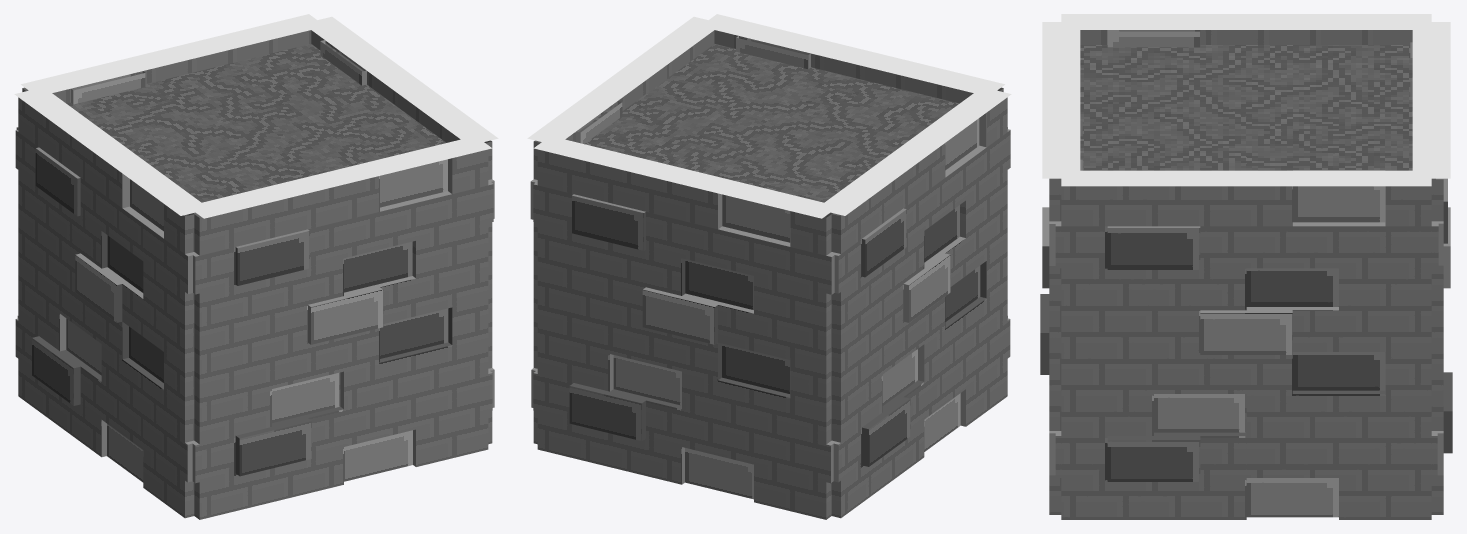
3 renders of one model, left to right at view 1: azimuth 30°, elevation 25°; view 2: azimuth 150°, elevation 25°; view 3: azimuth 270°, elevation 25°, orthographic. The views are drawn at different scales.
Visible parts, largest first — view 1: 4W-col; view 2: 4W-col; view 3: 4W-col.
Boxes of the visible parts, x1,y1,x2,y2 form: 4W-col: (14, 14, 498, 519); 4W-col: (527, 14, 1011, 519); 4W-col: (1040, 14, 1452, 519).
Bounding box in the file's own units: 2.23 × 2.01 × 2.23.
4 materials, 3 textured.
